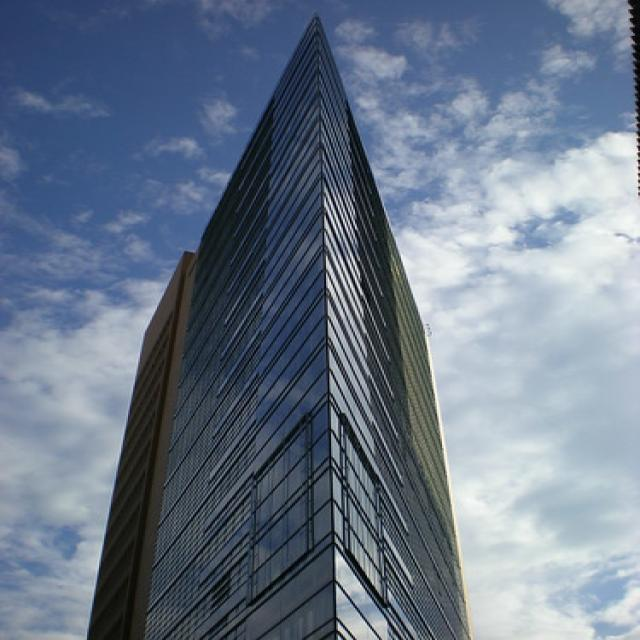building: (78, 13, 470, 640)
